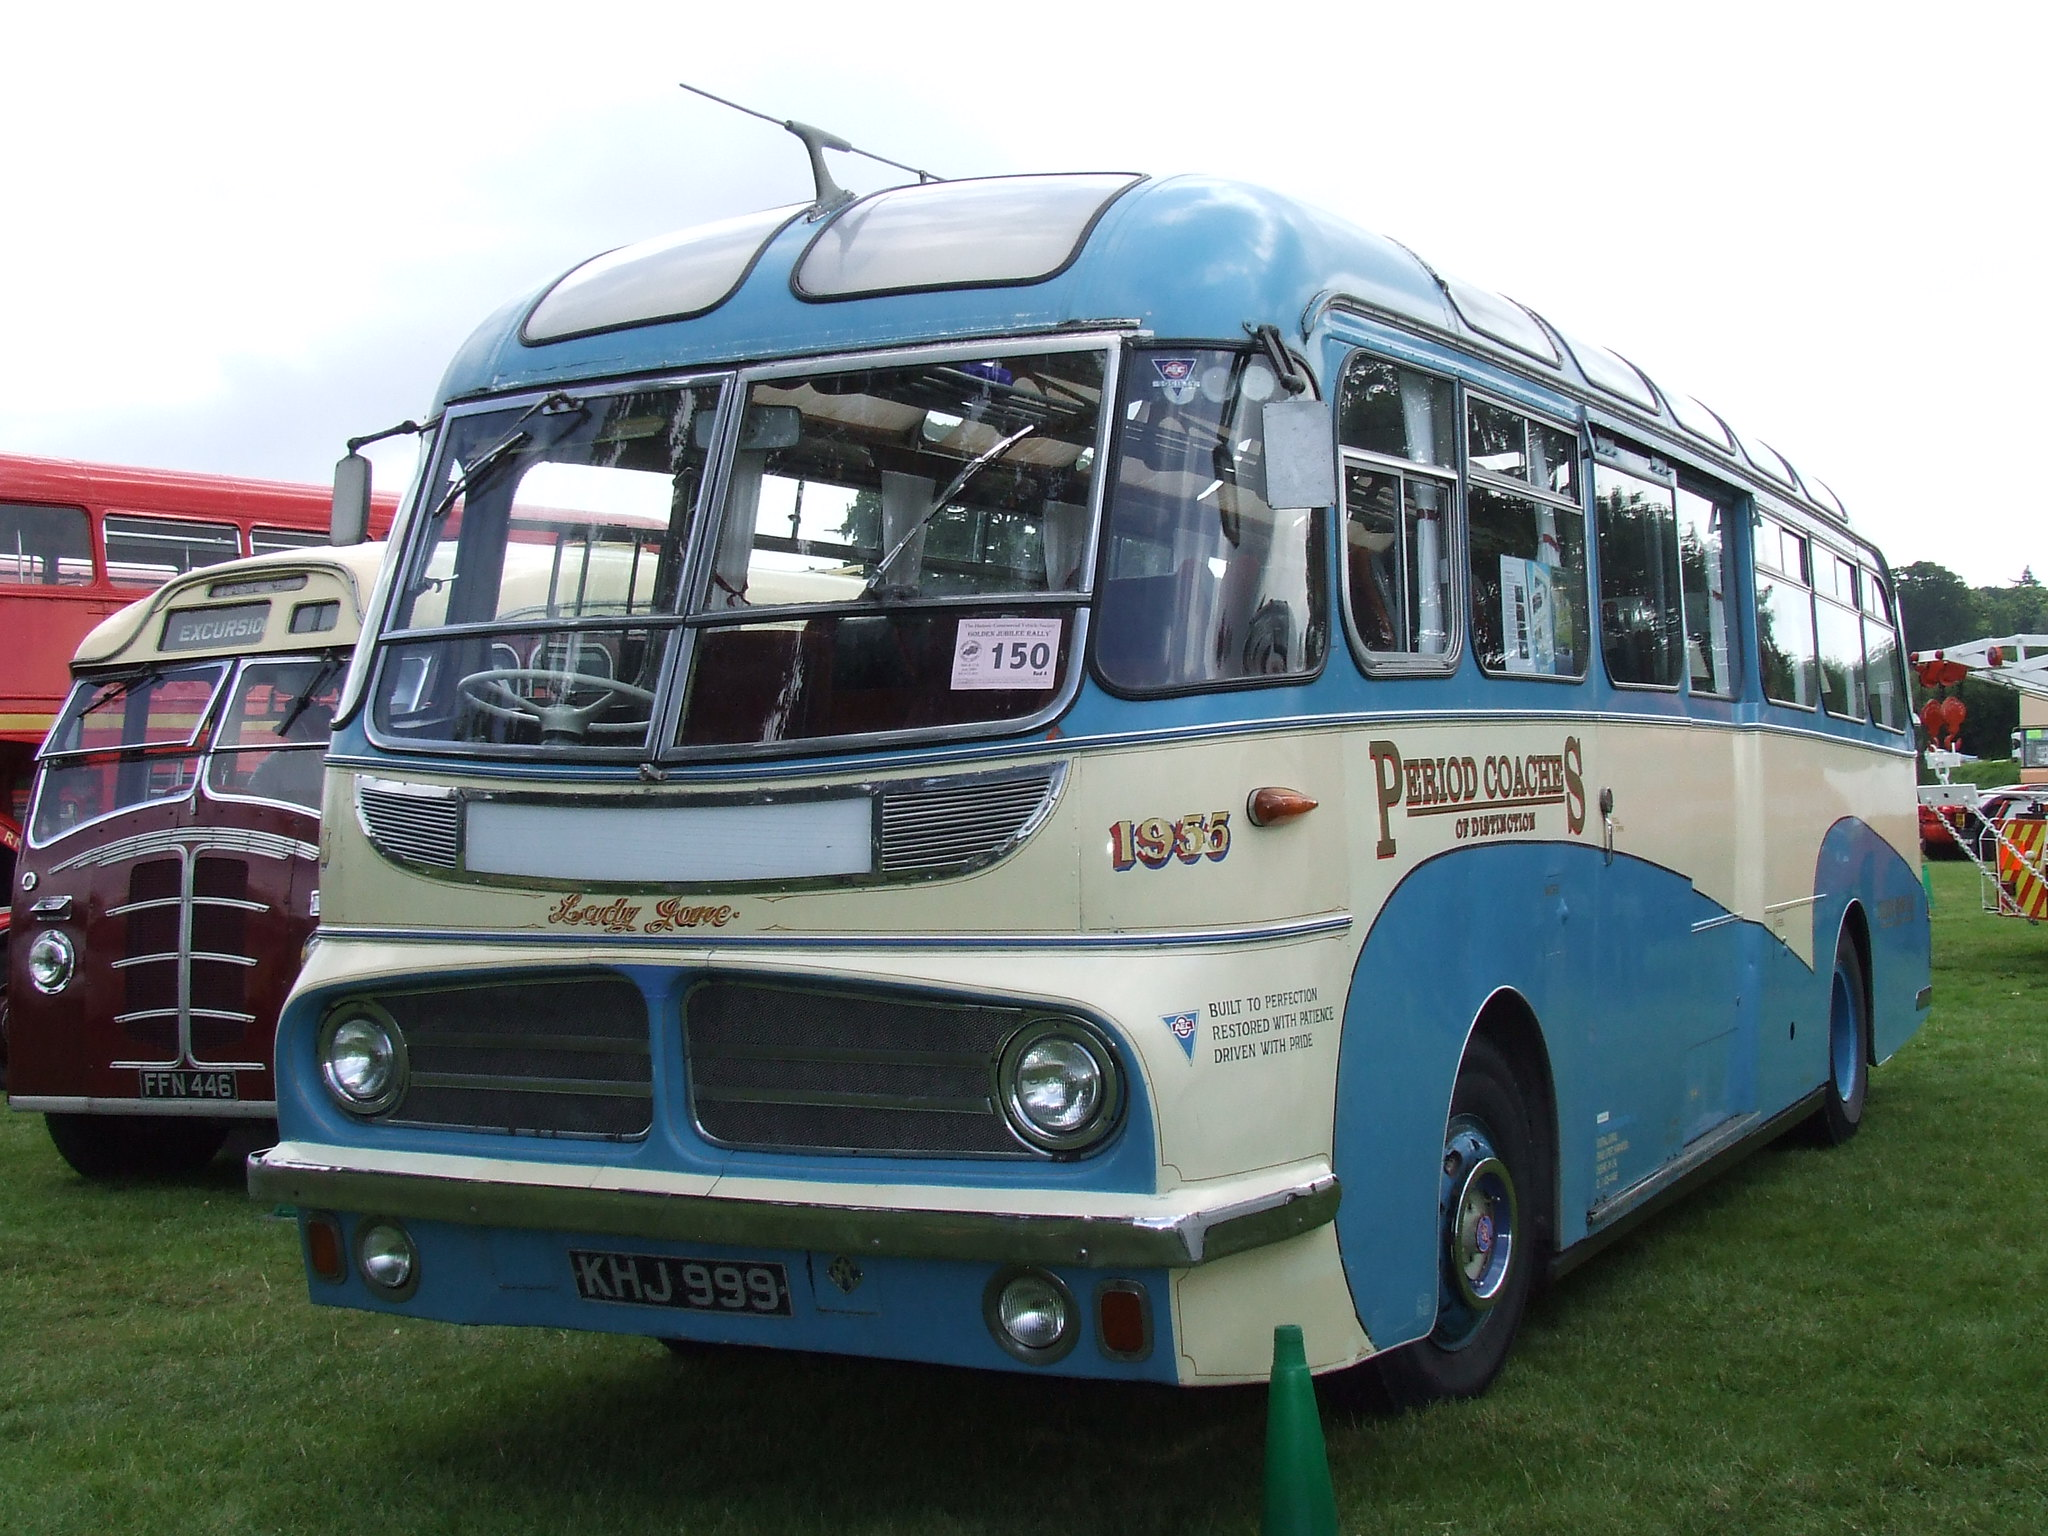bus: (289, 136, 1958, 1386)
